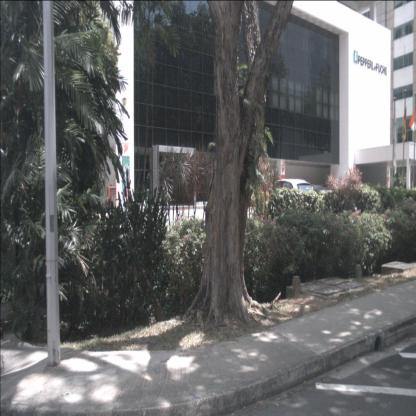vehicle-car: (260, 179, 318, 223)
